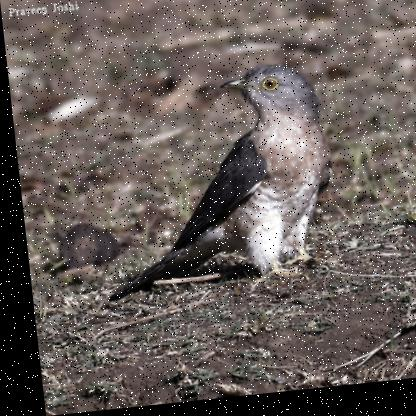Burung: (82, 66, 337, 301)
